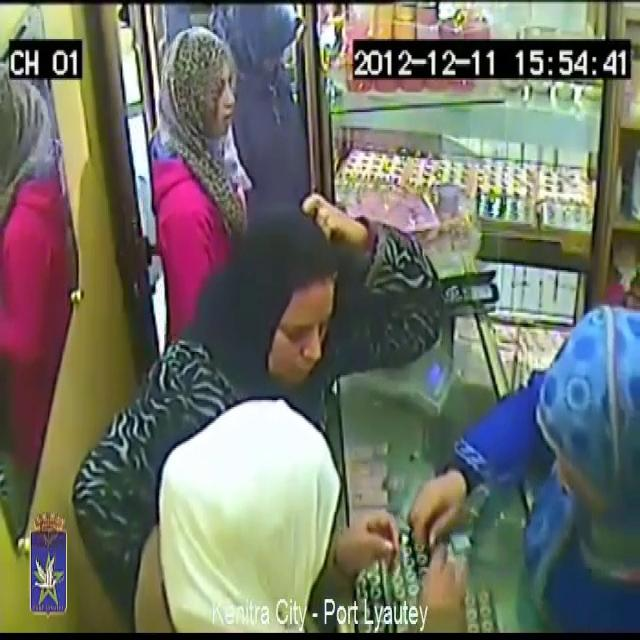Product: (429, 533, 458, 601)
normal: (458, 248, 640, 640), (246, 195, 378, 412), (135, 35, 250, 250), (204, 0, 304, 188)
shoplifting: (159, 372, 489, 640)
